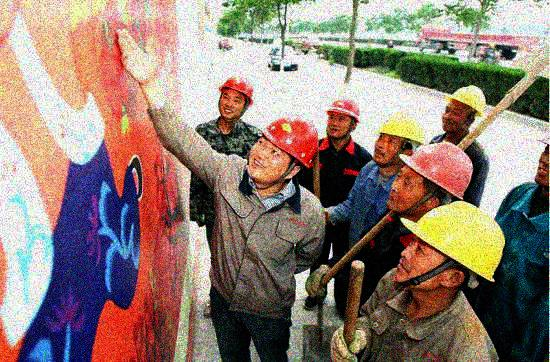helmet: (397, 201, 506, 291), (387, 141, 473, 213), (249, 114, 319, 185), (374, 111, 423, 171), (439, 85, 485, 135), (216, 75, 254, 123), (326, 97, 362, 139), (533, 127, 550, 190)
